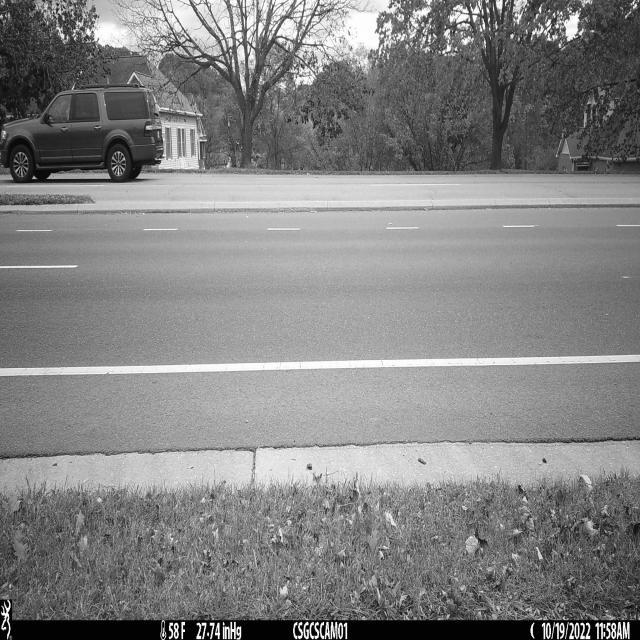SUV: (0, 86, 167, 183)
